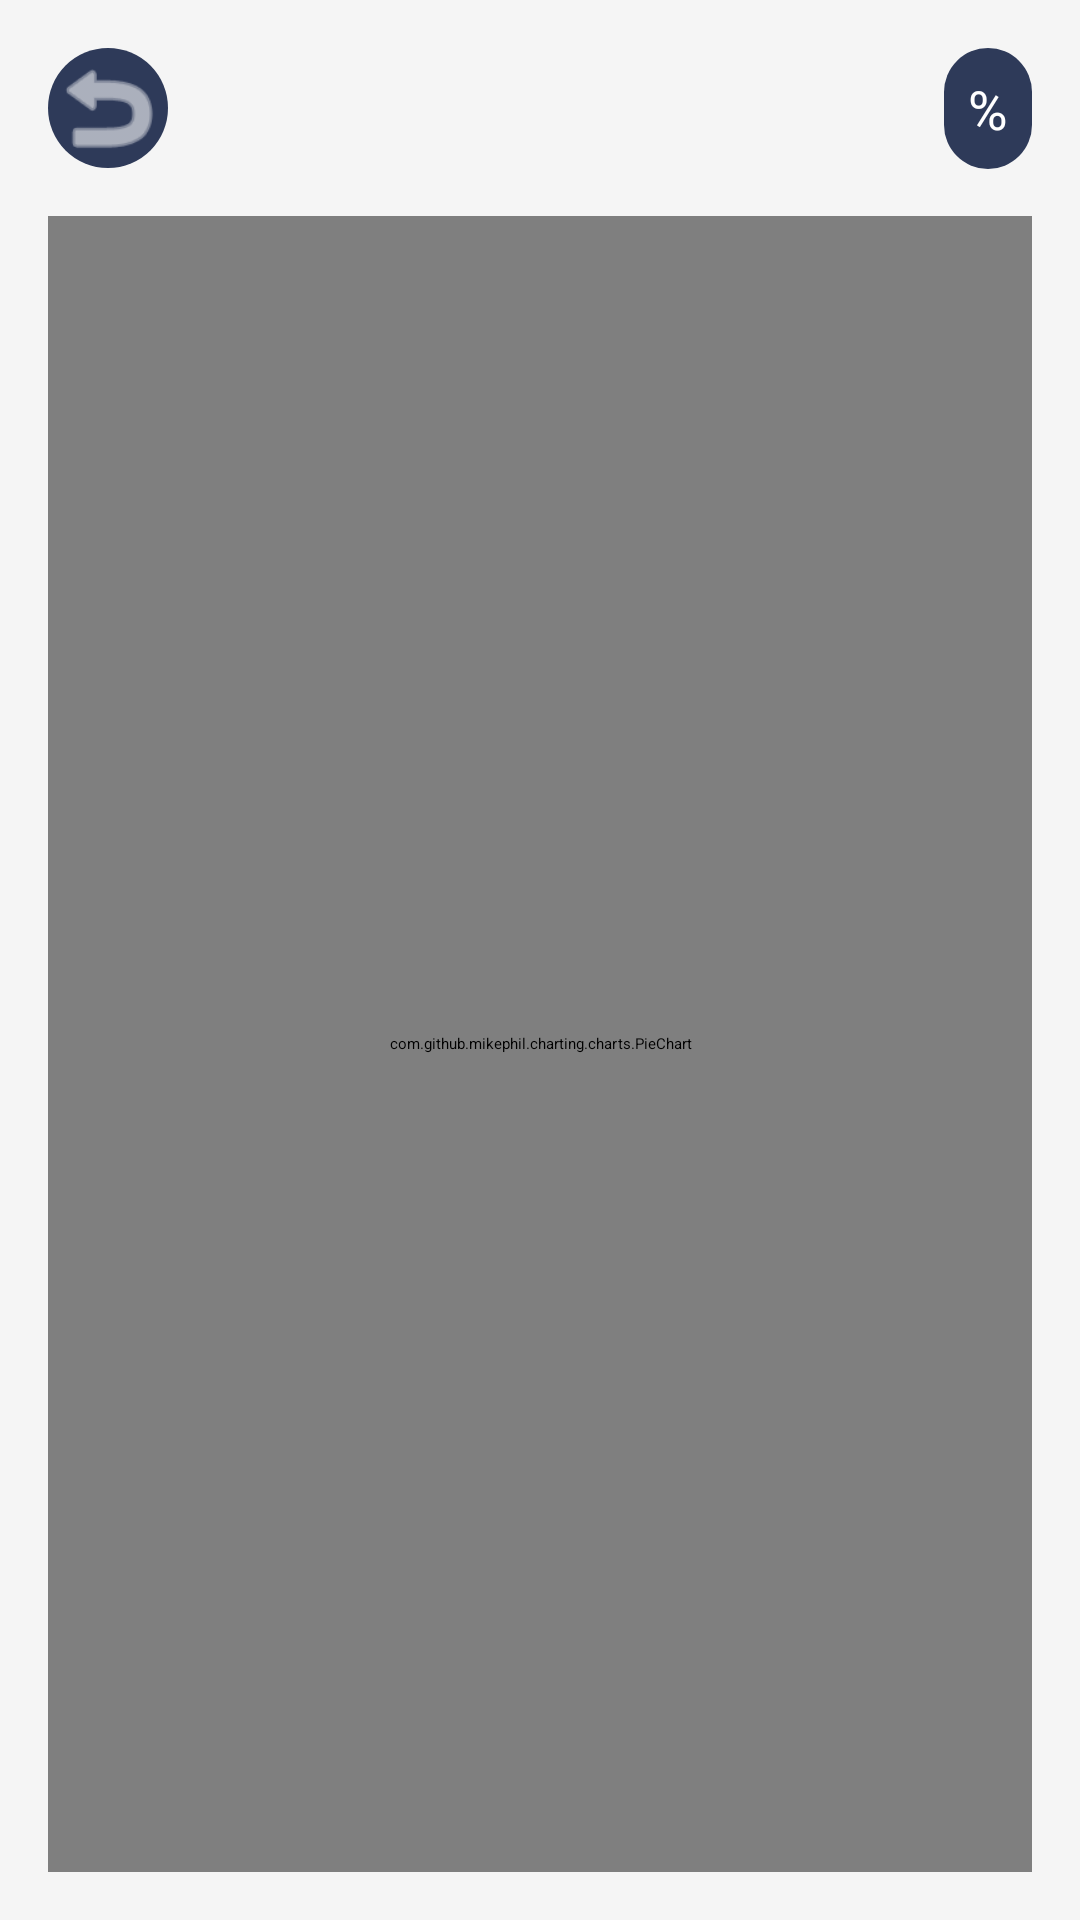

Where icons sit on this 1080 × 1920 app screen, as bbox=(x1, y1, x2, y2):
revert: bbox=(48, 48, 168, 168)
